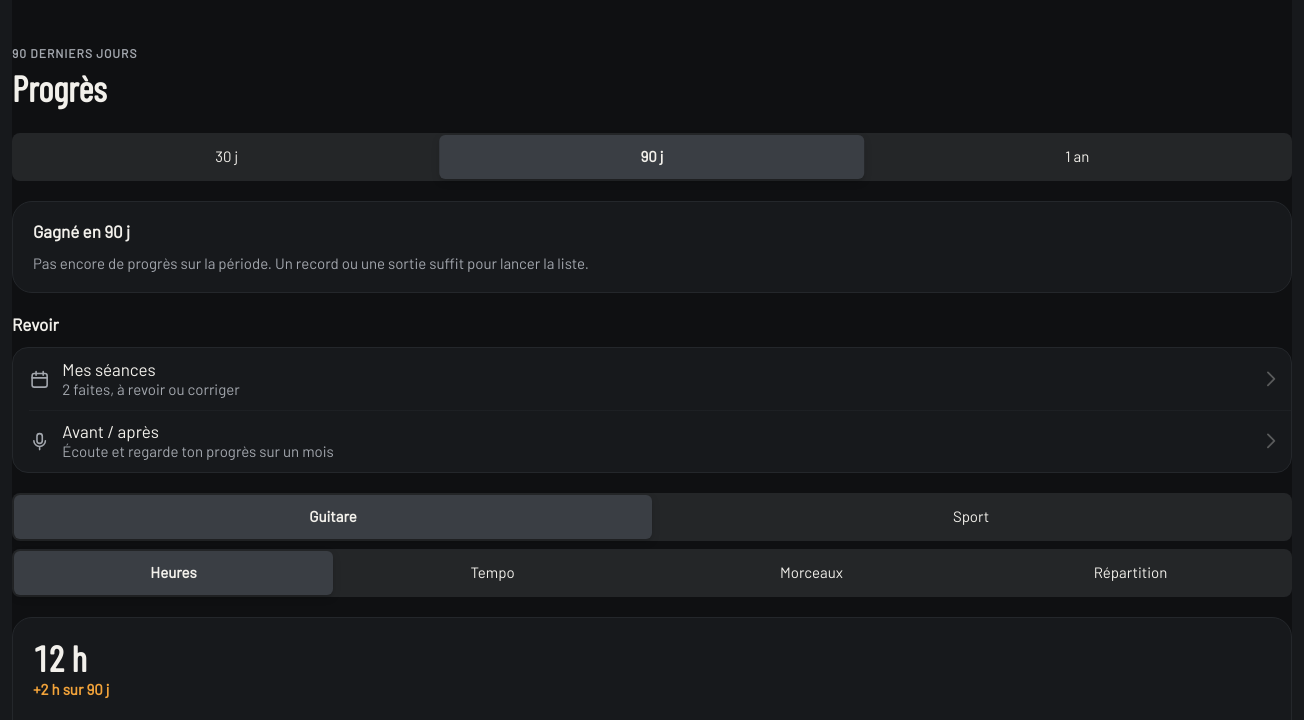
ProgressPage › la période change le delta
Expected: the text "12 h" is shown, [33,636,87,679]
Expected: the text with test id "delta" reads "+2 h sur 90 j", [33,680,109,698]
What coordinates should you click on to do the following:
click the button "1 an"
I would click on:
 (1077, 157)
Its box is [865,135,1290,179].
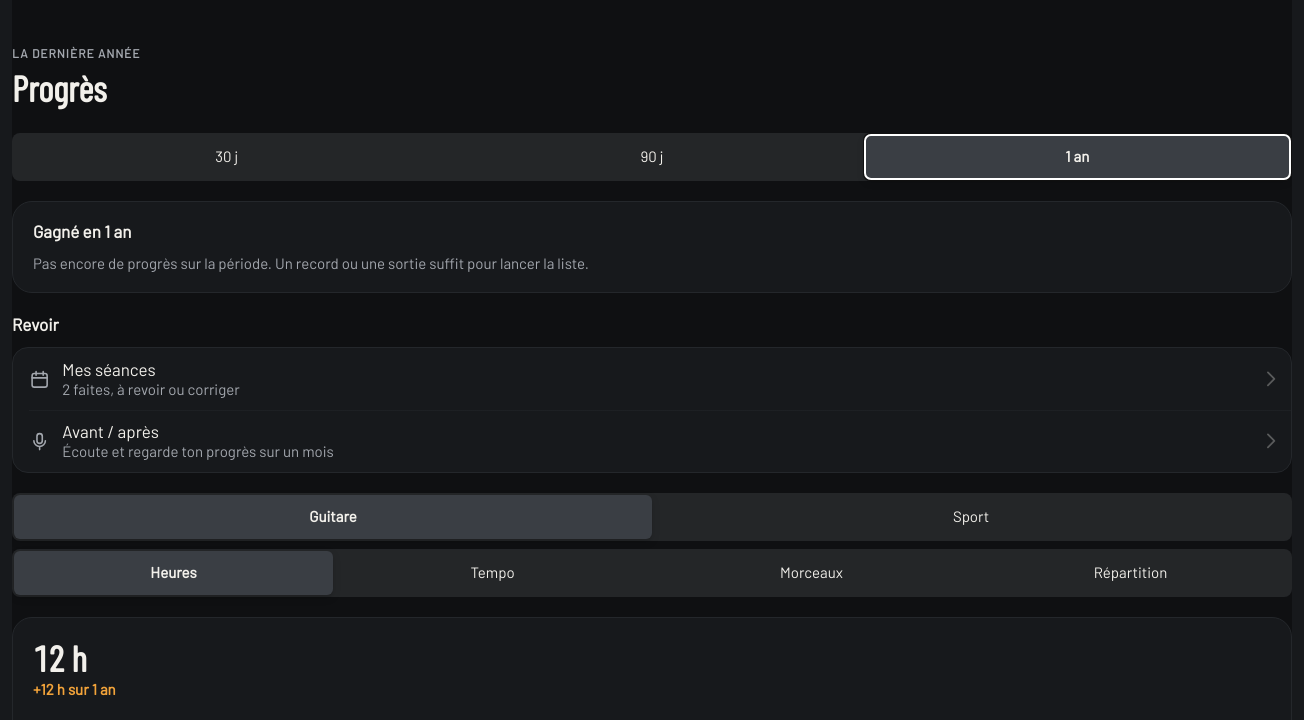
Now the text with test id "delta" reads "+12 h sur 1 an", box [33,680,116,698]
Now the text "La dernière année" is shown, box [12,46,140,62]
